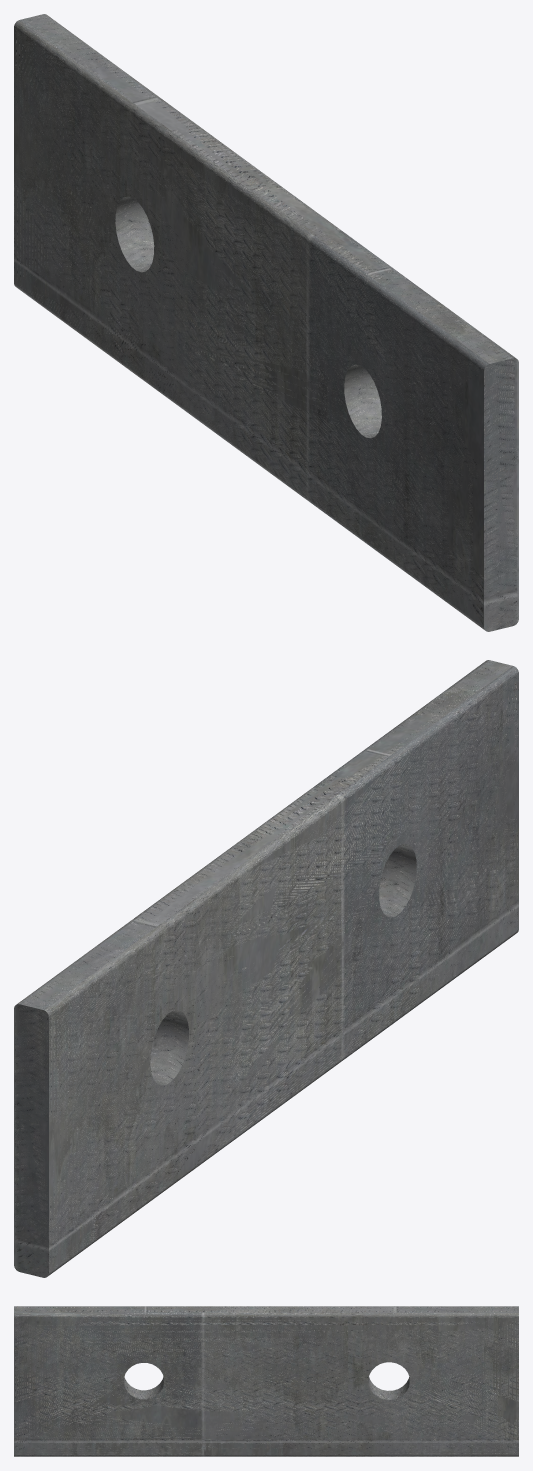
The model's file is original-62.obj.
The picture shows the model from 3 angles, top to bottom: view 1: azimuth 30°, elevation 25°; view 2: azimuth 150°, elevation 25°; view 3: azimuth 270°, elevation 25°; orthographic projection. The views are drawn at different scales.
Visible parts, largest first — view 1: Side_Slats_1_2/Side_Slats_1_1_2/mesh14/mesh14-geometry#mesh14-ge; view 2: Side_Slats_1_2/Side_Slats_1_1_2/mesh14/mesh14-geometry#mesh14-ge; view 3: Side_Slats_1_2/Side_Slats_1_1_2/mesh14/mesh14-geometry#mesh14-ge.
Part boxes in pixels (left/top/right/bottom): Side_Slats_1_2/Side_Slats_1_1_2/mesh14/mesh14-geometry#mesh14-ge: left=14, top=14, right=518, bottom=631; Side_Slats_1_2/Side_Slats_1_1_2/mesh14/mesh14-geometry#mesh14-ge: left=14, top=660, right=518, bottom=1277; Side_Slats_1_2/Side_Slats_1_1_2/mesh14/mesh14-geometry#mesh14-ge: left=14, top=1306, right=518, bottom=1456.
Bounding box in the file's own units: 0.0325 × 0.2386 × 0.759.
